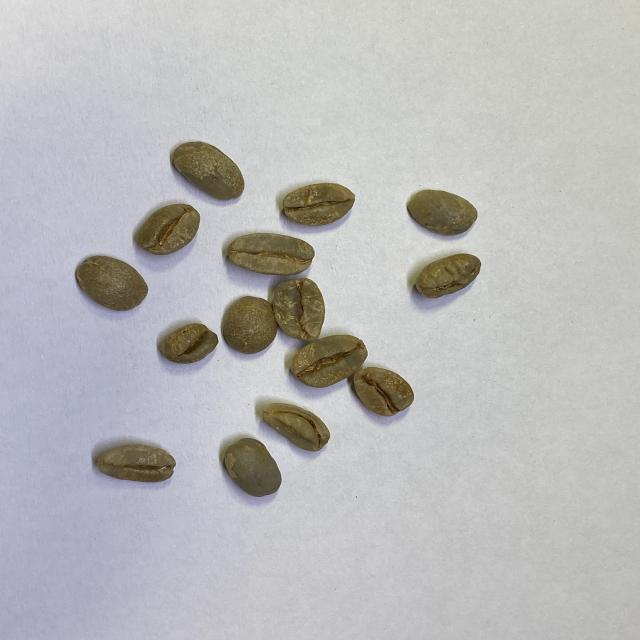bad: (259, 401, 333, 453), (413, 252, 482, 302), (275, 278, 327, 342)
good: (170, 140, 245, 201), (74, 255, 151, 311), (290, 334, 368, 388), (228, 232, 316, 275), (406, 188, 479, 237), (220, 294, 279, 354), (224, 439, 284, 498), (94, 442, 176, 483), (138, 203, 201, 255), (354, 365, 413, 419), (283, 183, 355, 225), (162, 323, 217, 364)
